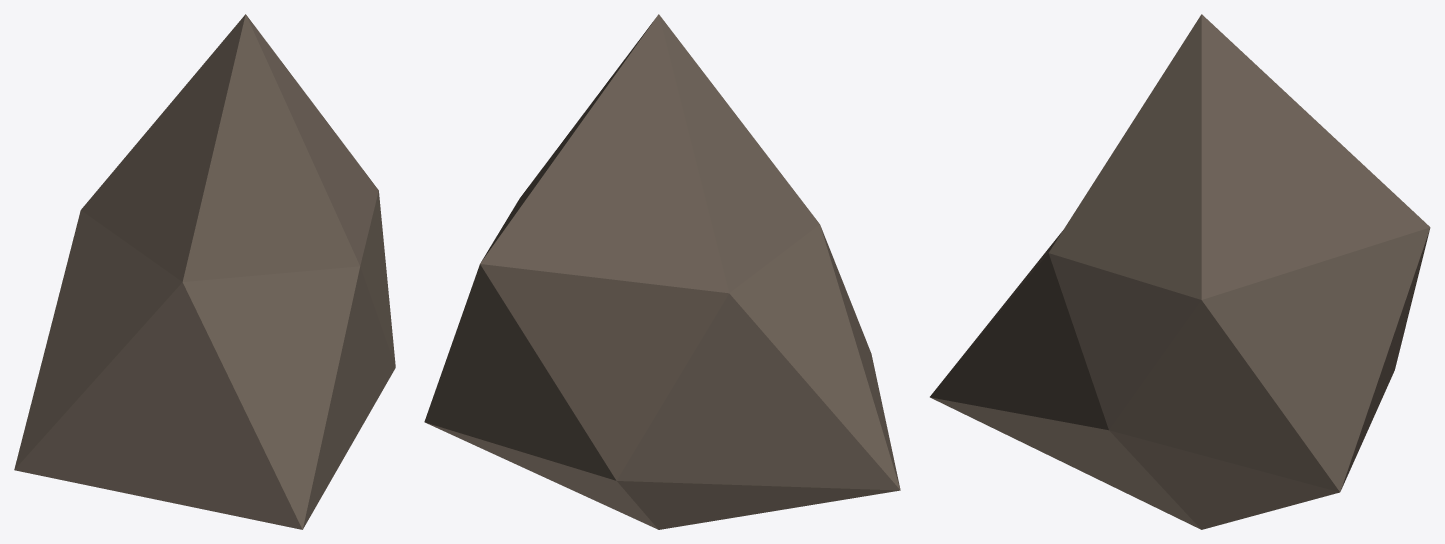
Rendered from Asteroid_01.glb.
3 views of the same model, side by side, from view 1: azimuth 30°, elevation 25°; view 2: azimuth 150°, elevation 25°; view 3: azimuth 270°, elevation 25° (orthographic). The views are drawn at different scales.
Parts seen in each view (by area): view 1: Asteroid_01; view 2: Asteroid_01; view 3: Asteroid_01.
Boxes of the visible parts, x1,y1,x2,y2 form: Asteroid_01: (14,14,395,529); Asteroid_01: (424,14,900,529); Asteroid_01: (930,14,1430,529).
Bounding box in the file's own units: 1.01 × 1.22 × 1.07.
